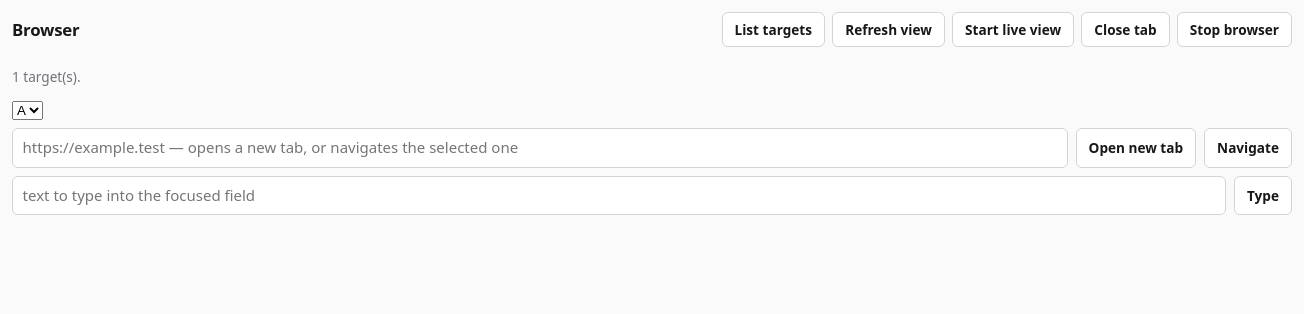
Test: BrowserPane › navigates the selected target to the address and captures the page
Expected: the text "1 target(s)." is shown, [12,67,81,86]
Replace the text in the field named "Address" with "https://b.test" at [540, 148], box [12,128,1068,168]
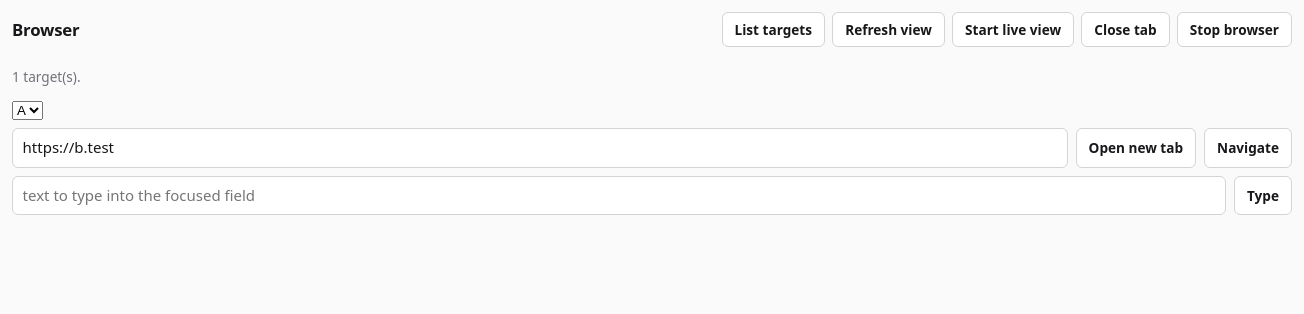
Click the button "Navigate" at [1248, 148], box [1204,128,1292,168]
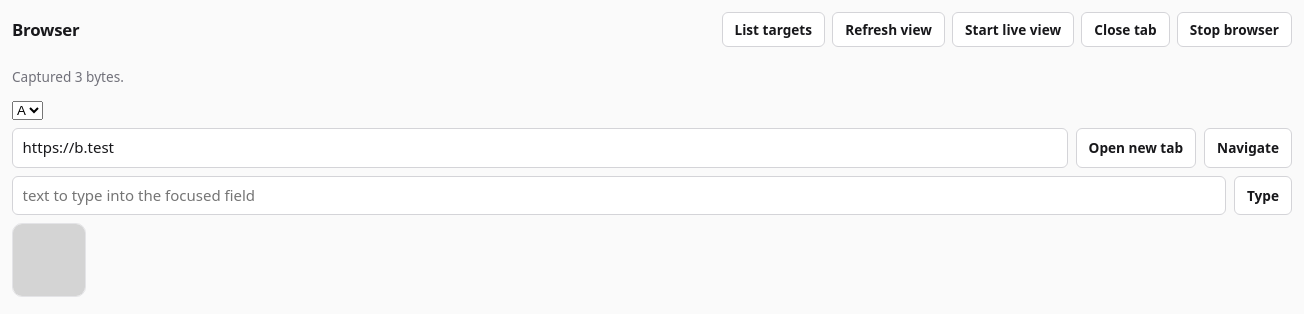
Now the text "Captured 3 bytes." is shown, box [12,67,124,86]
